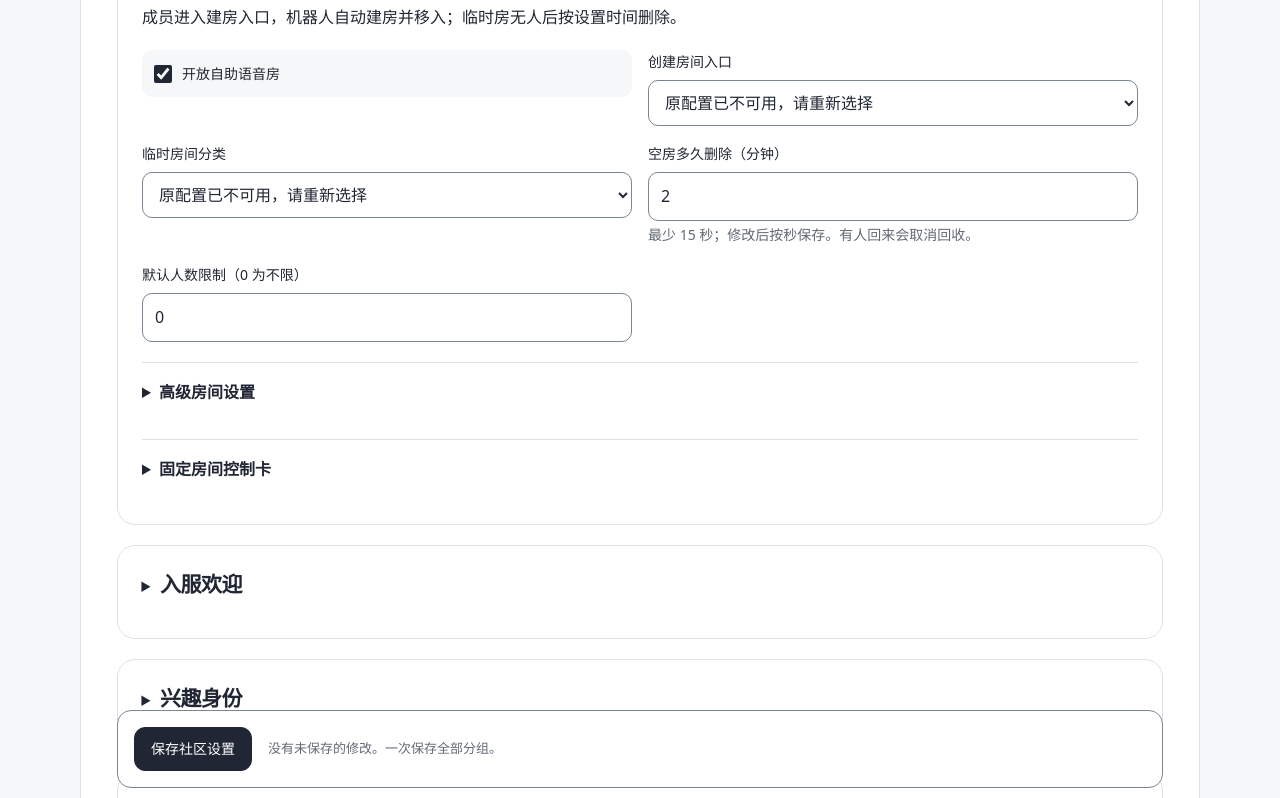
Test: keeps five everyday room settings visible and folds advanced policy and optional legacy panel
(page scrolled)
Expected: the button "保存社区设置" is shown, [134,727,252,771]
Expected: the checkbox labelled "开放自助语音房" is shown, [154,65,172,83]
Click the heading "高级房间设置" at (207, 392), box [159,381,255,403]
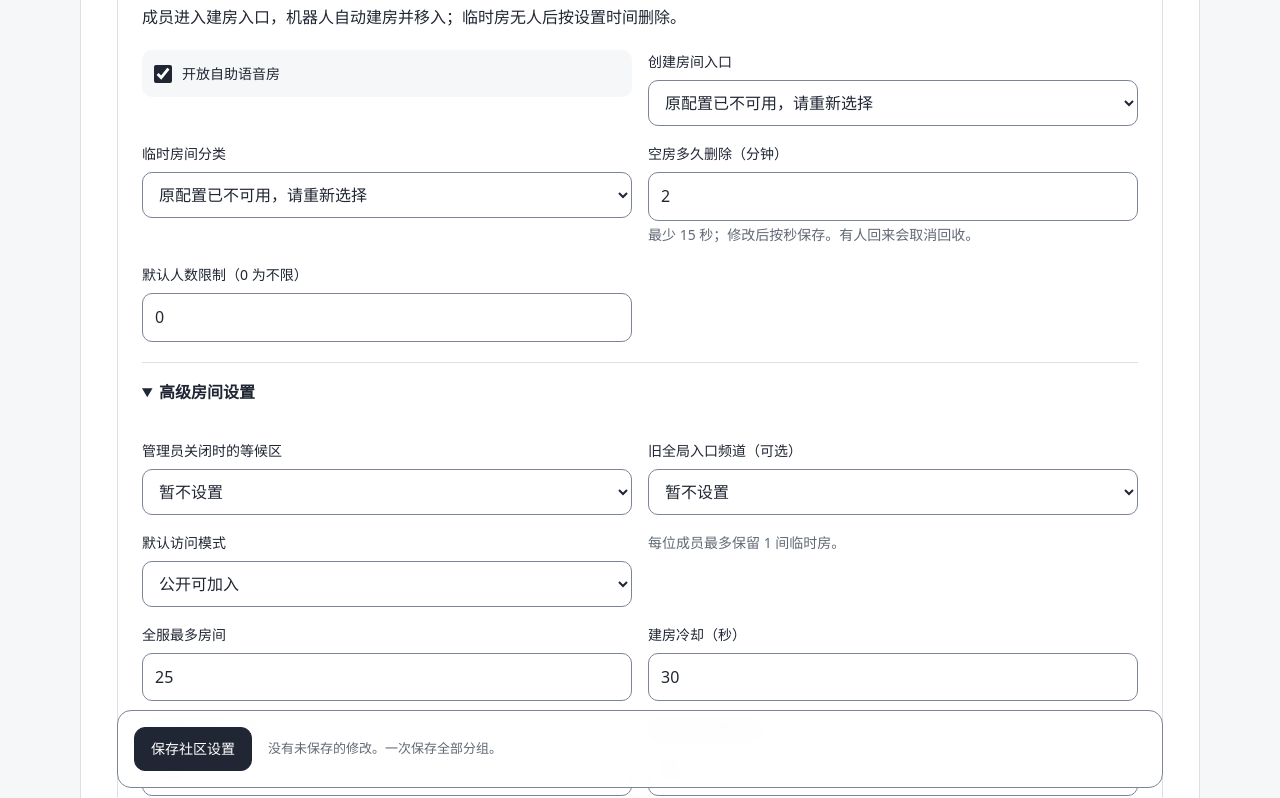
Now the number field labelled "建房冷却（秒）" is shown, box [648,653,1138,701]
Now the dropdown labelled "旧全局入口频道（可选）" is shown, box [648,469,1138,515]
